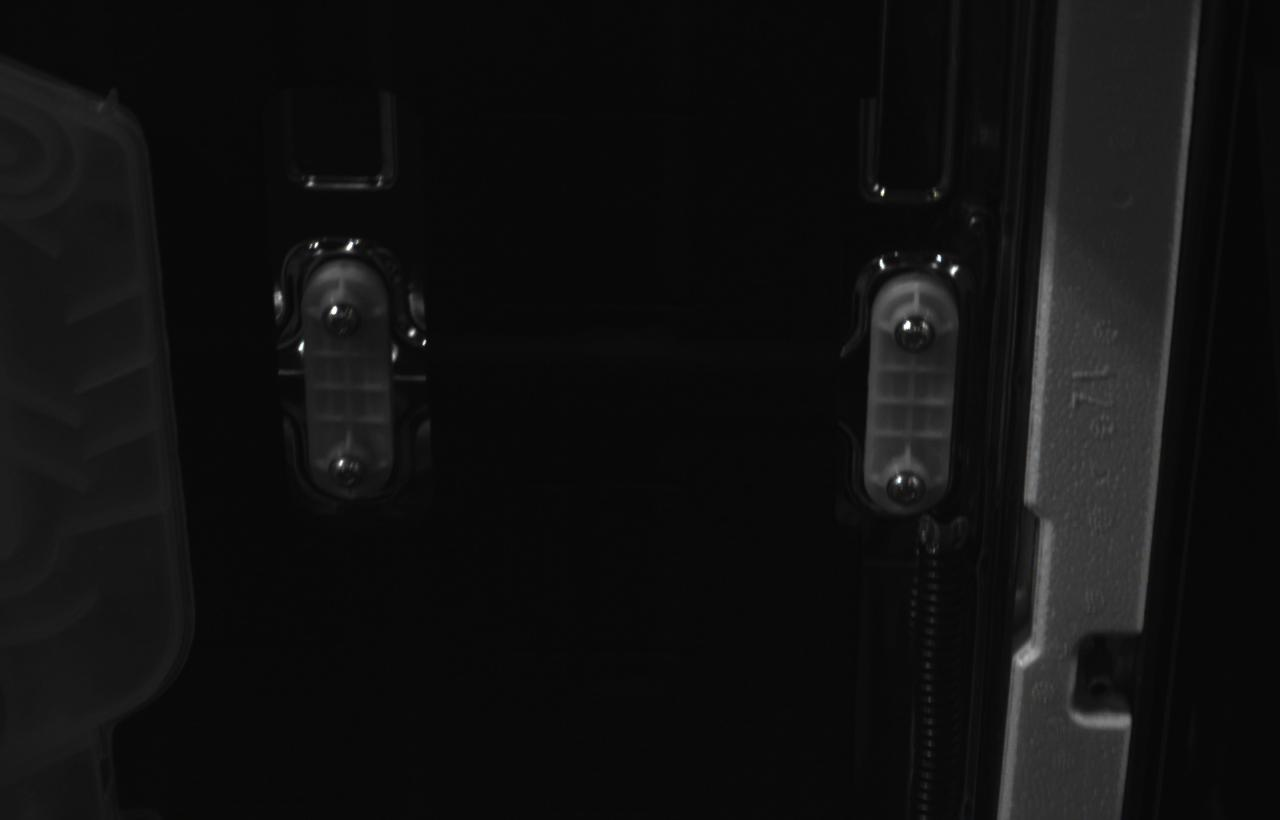vida-ok: (320, 302, 366, 342), (894, 315, 937, 356), (885, 470, 928, 508), (327, 453, 368, 492)
